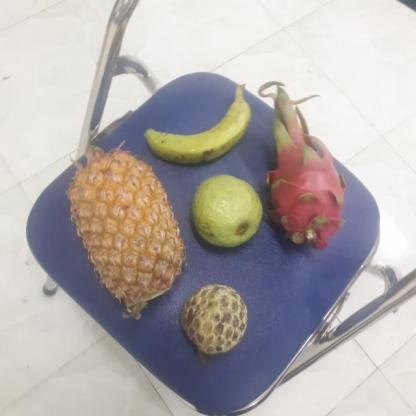annona: (176, 284, 248, 356)
banana: (141, 93, 250, 165)
guava: (188, 174, 263, 248)
pineapple: (66, 148, 181, 312)
pitaya: (261, 129, 343, 241)
